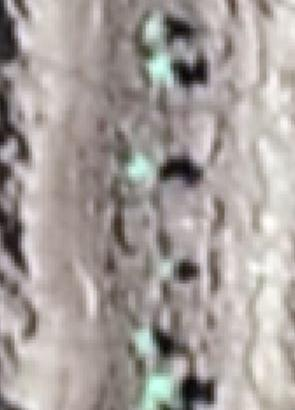cotton: (148, 374, 182, 408), (143, 52, 172, 79), (127, 152, 154, 180), (144, 13, 169, 43), (135, 328, 158, 354), (160, 258, 177, 280)
